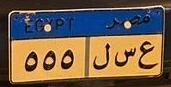5: (59, 48, 77, 70), (22, 51, 40, 73), (43, 49, 57, 69)
ain: (137, 40, 156, 73)
laam: (92, 42, 111, 72)
seen: (115, 46, 136, 69)
